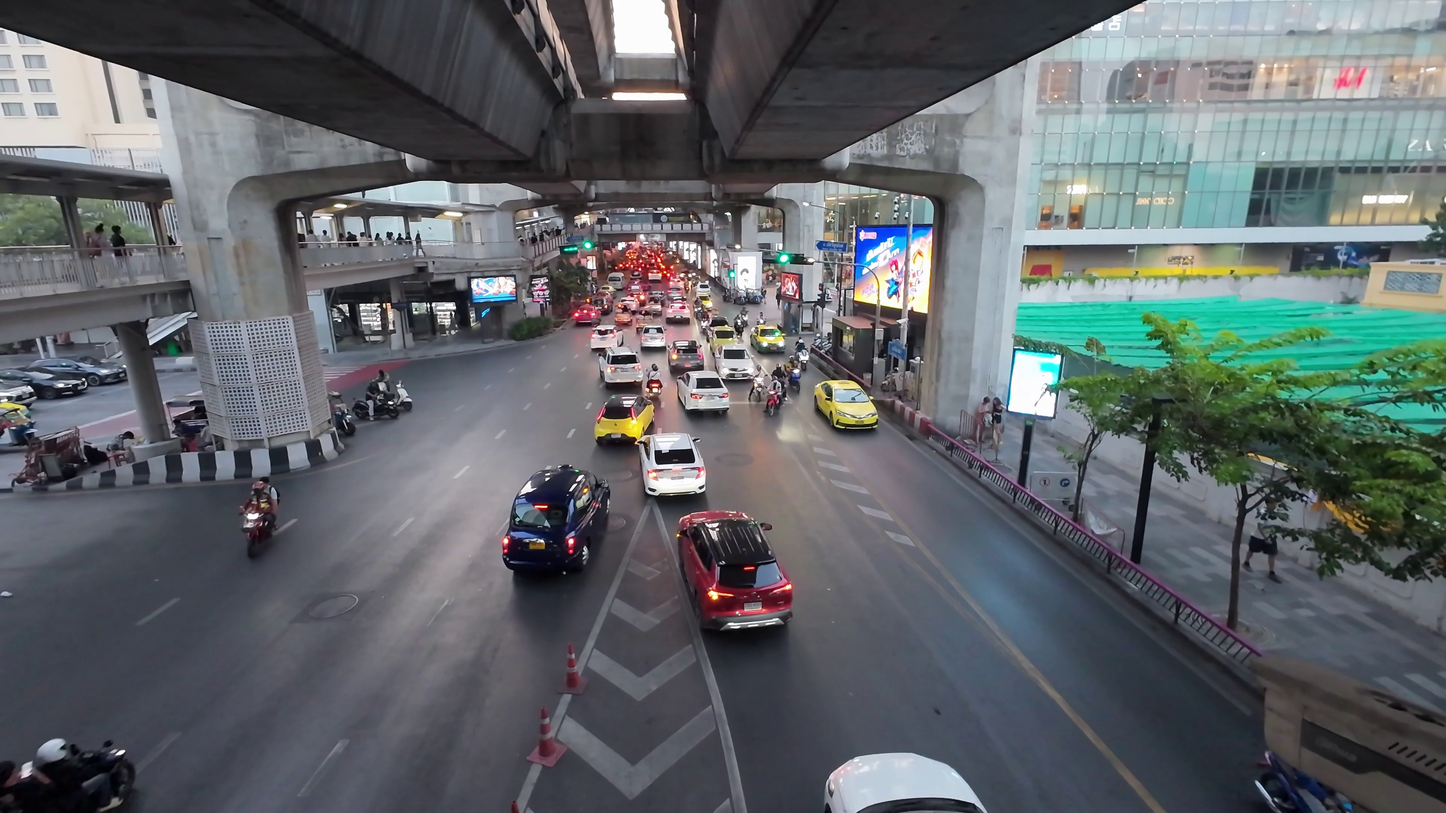license_plate: (706, 585, 765, 624), (528, 531, 584, 566), (863, 787, 944, 807), (34, 790, 103, 809), (1278, 787, 1331, 808), (656, 472, 690, 494), (829, 411, 863, 429), (609, 421, 641, 440), (250, 536, 274, 557), (691, 397, 717, 412), (372, 408, 399, 420), (723, 368, 744, 380)
motorcycle: (0, 735, 137, 813), (238, 475, 287, 562), (359, 372, 412, 423)
no_seatbelt: (694, 529, 777, 591), (516, 481, 595, 536), (847, 759, 960, 790), (1268, 759, 1341, 790), (648, 441, 697, 475), (602, 394, 648, 424), (822, 386, 870, 414), (686, 376, 723, 399), (720, 352, 747, 370)
